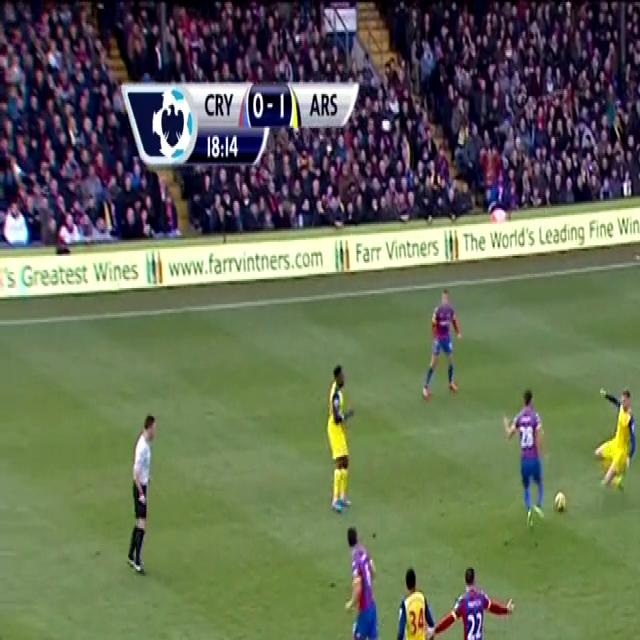ball: (552, 485, 568, 518)
referee: (107, 413, 182, 589)
soccer-player: (306, 360, 368, 520), (328, 522, 398, 640), (412, 278, 474, 404), (584, 377, 640, 501), (500, 384, 546, 532), (430, 565, 517, 640), (387, 563, 442, 640)
